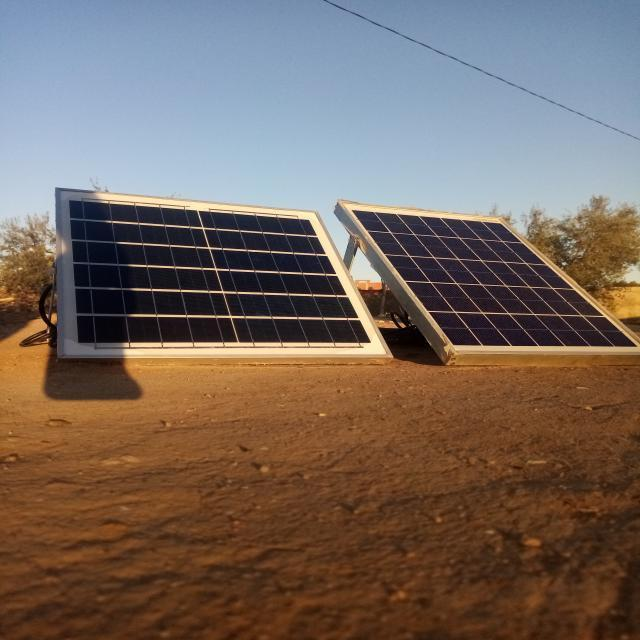Normal Solar Panel: (57, 188, 390, 358), (341, 205, 640, 354)
